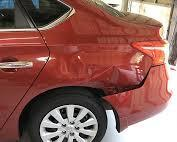dent: (103, 54, 177, 131), (53, 54, 169, 88)
